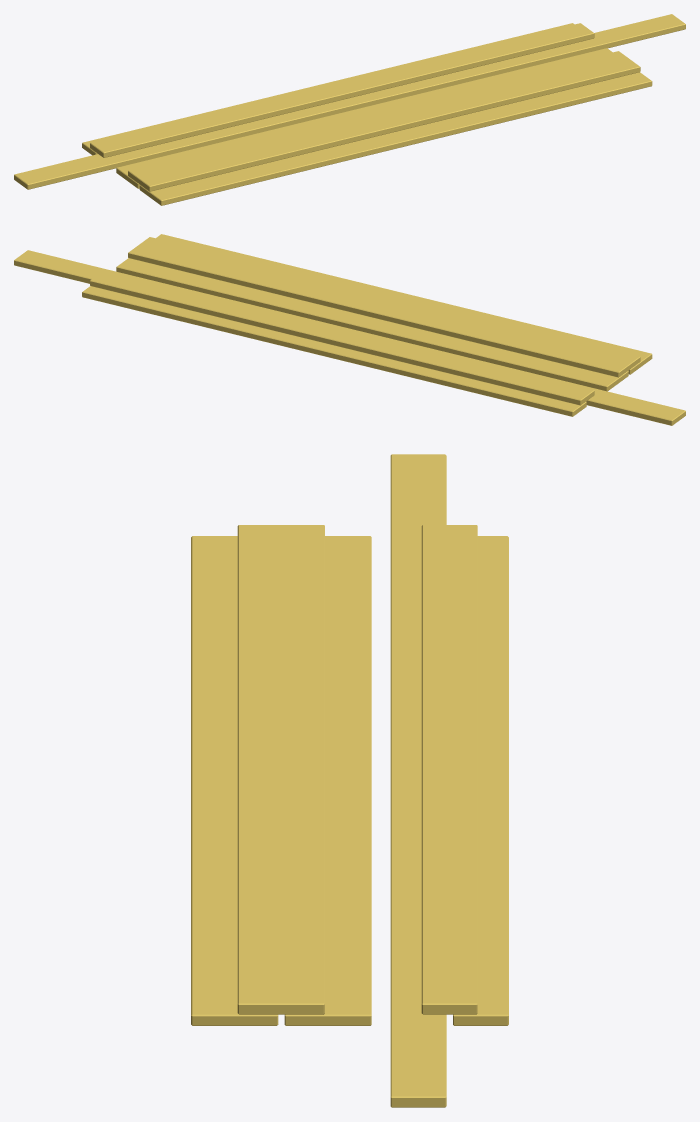
The model's file is table4.1.glb.
The picture shows the model from 3 angles, top to bottom: view 1: azimuth 30°, elevation 25°; view 2: azimuth 150°, elevation 25°; view 3: azimuth 270°, elevation 25°; orthographic projection. The views are drawn at different scales.
Parts seen in each view (by area): view 1: beam2.002, beam1.5, beam1.4, beam2.001, beam2.6, beam2.5; view 2: beam2.002, beam1.4, beam2.6, beam2.5, beam1.5, beam2.001; view 3: beam2.002, beam1.4, beam1.5, beam2.001, beam2.6, beam2.5.
Part boxes in pixels (x1,y1,x2,y2): beam2.002: (128, 51, 640, 191); beam1.5: (14, 14, 685, 189); beam1.4: (90, 23, 594, 157); beam2.001: (139, 72, 652, 205); beam2.6: (116, 48, 612, 188); beam2.5: (82, 23, 574, 155); beam2.002: (128, 237, 640, 377); beam1.4: (90, 270, 594, 405); beam2.6: (116, 258, 628, 391); beam2.5: (82, 286, 586, 416); beam1.5: (14, 250, 685, 425); beam2.001: (156, 234, 652, 374); beam2.002: (237, 525, 324, 1014); beam1.4: (421, 525, 477, 1014); beam1.5: (390, 454, 446, 1107); beam2.001: (191, 536, 278, 1025); beam2.6: (284, 536, 371, 1025); beam2.5: (453, 536, 508, 1025).
Bounding box in the file's own units: 2.44 × 0.04 × 0.51.
